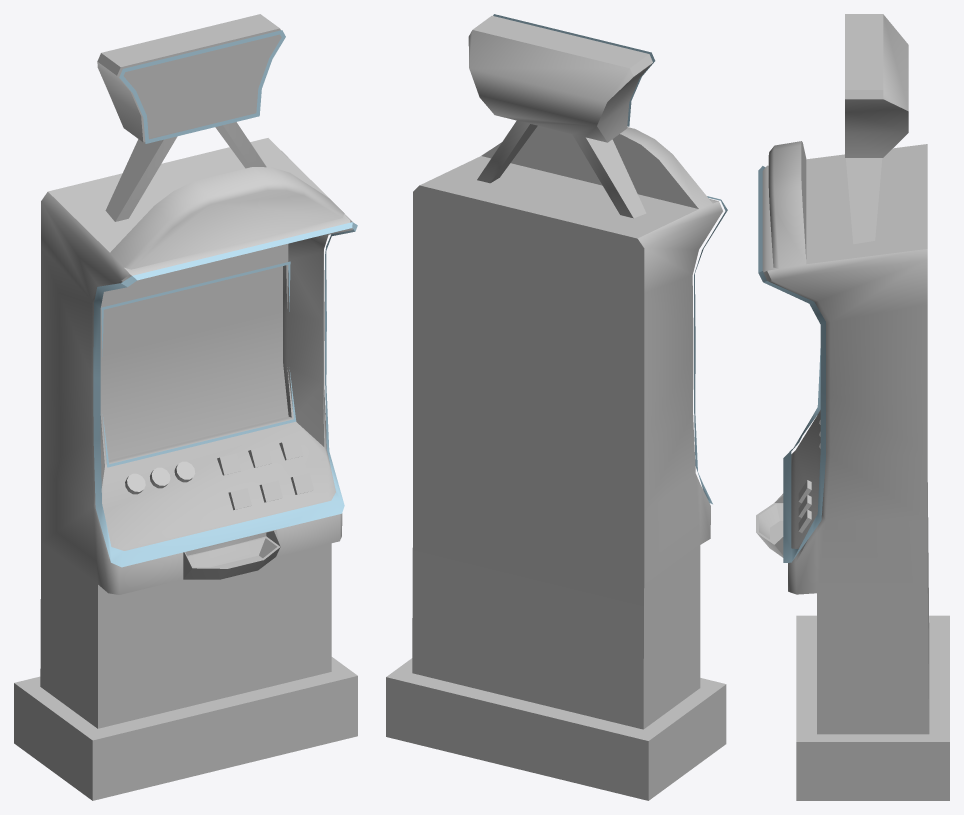
The model's file is Prop_SlotMachine.FBX.
3 renders of one model, left to right at view 1: azimuth 30°, elevation 25°; view 2: azimuth 150°, elevation 25°; view 3: azimuth 270°, elevation 25°, orthographic. The views are drawn at different scales.
Visible parts, largest first — view 1: Prop_SlotMachine; view 2: Prop_SlotMachine; view 3: Prop_SlotMachine.
Boxes of the visible parts, x1,y1,x2,y2 form: Prop_SlotMachine: (14, 14, 357, 800); Prop_SlotMachine: (386, 14, 727, 800); Prop_SlotMachine: (756, 14, 949, 800).
Size of the model in its own units: 1.02 by 2.58 by 0.6605.
